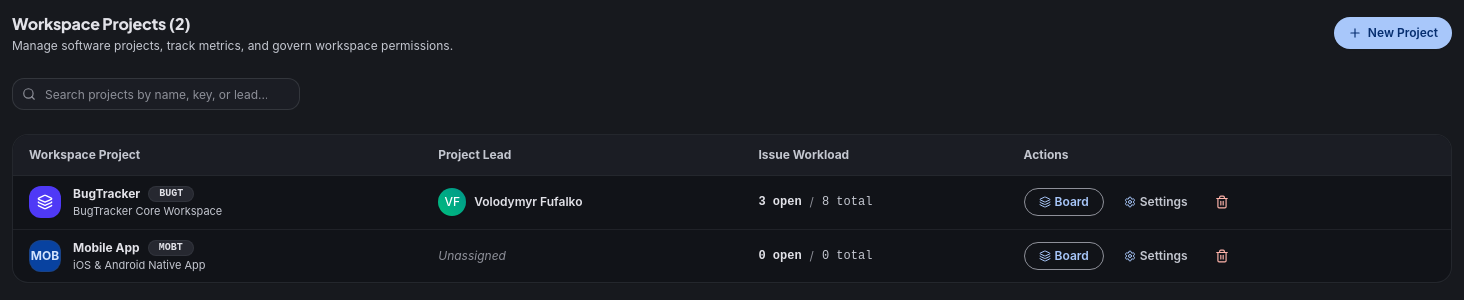
Test case: AdminProjectsTab Component › filters projects based on user input in search field
Type "mobile" into the field with placeholder "Search projects by name, key, or lead...". click: (156, 94)
box: [12,78,300,110]
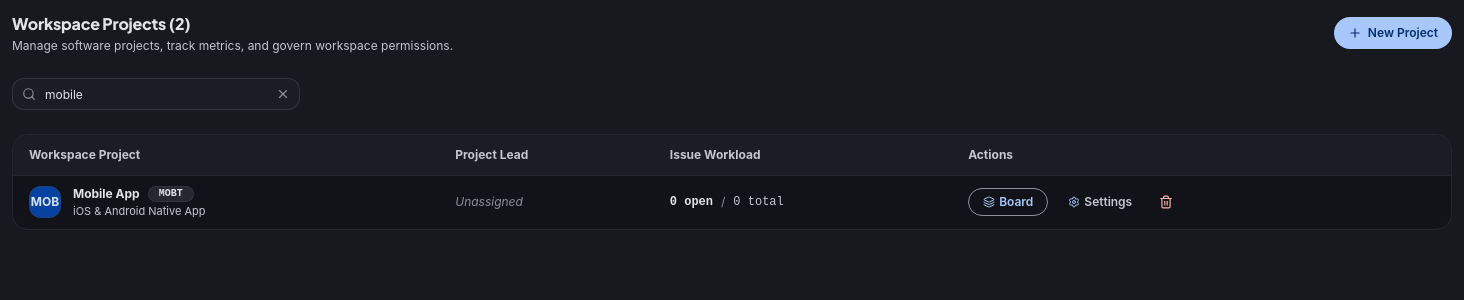
Expected: the text "Mobile App" is shown, [73,186,140,202]
Expected: the text "BugTracker" is gone
